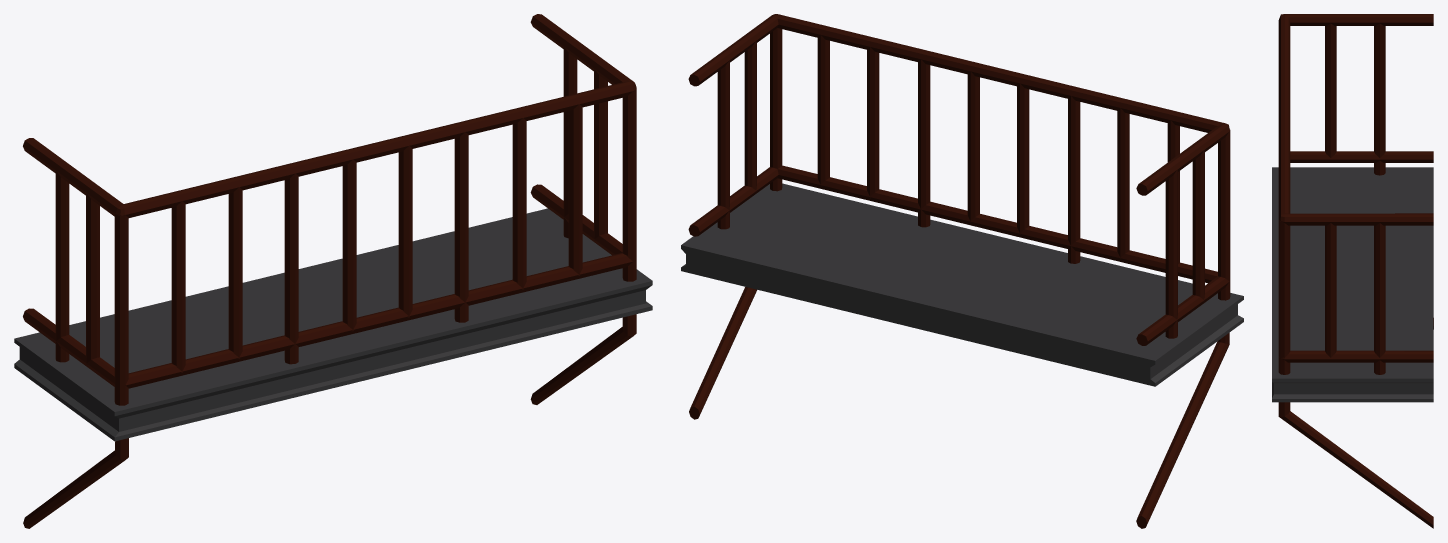
The model's file is Balcony_Large.fbx.
3 views of the same model, side by side, from view 1: azimuth 30°, elevation 25°; view 2: azimuth 150°, elevation 25°; view 3: azimuth 270°, elevation 25° (orthographic). The views are drawn at different scales.
Visible parts, largest first — view 1: Balcony_Large; view 2: Balcony_Large; view 3: Balcony_Large.
Part boxes in pixels (x1=…): Balcony_Large: x1=14, y1=14, x2=652, y2=528; Balcony_Large: x1=681, y1=14, x2=1243, y2=528; Balcony_Large: x1=1272, y1=14, x2=1433, y2=528.
Bounding box in the file's own units: 1515 × 1053 × 491.
